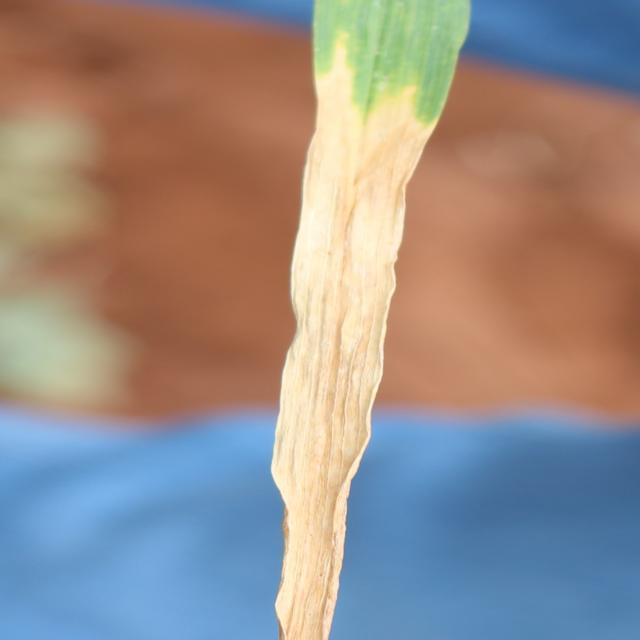Septoria: (268, 0, 472, 639)
